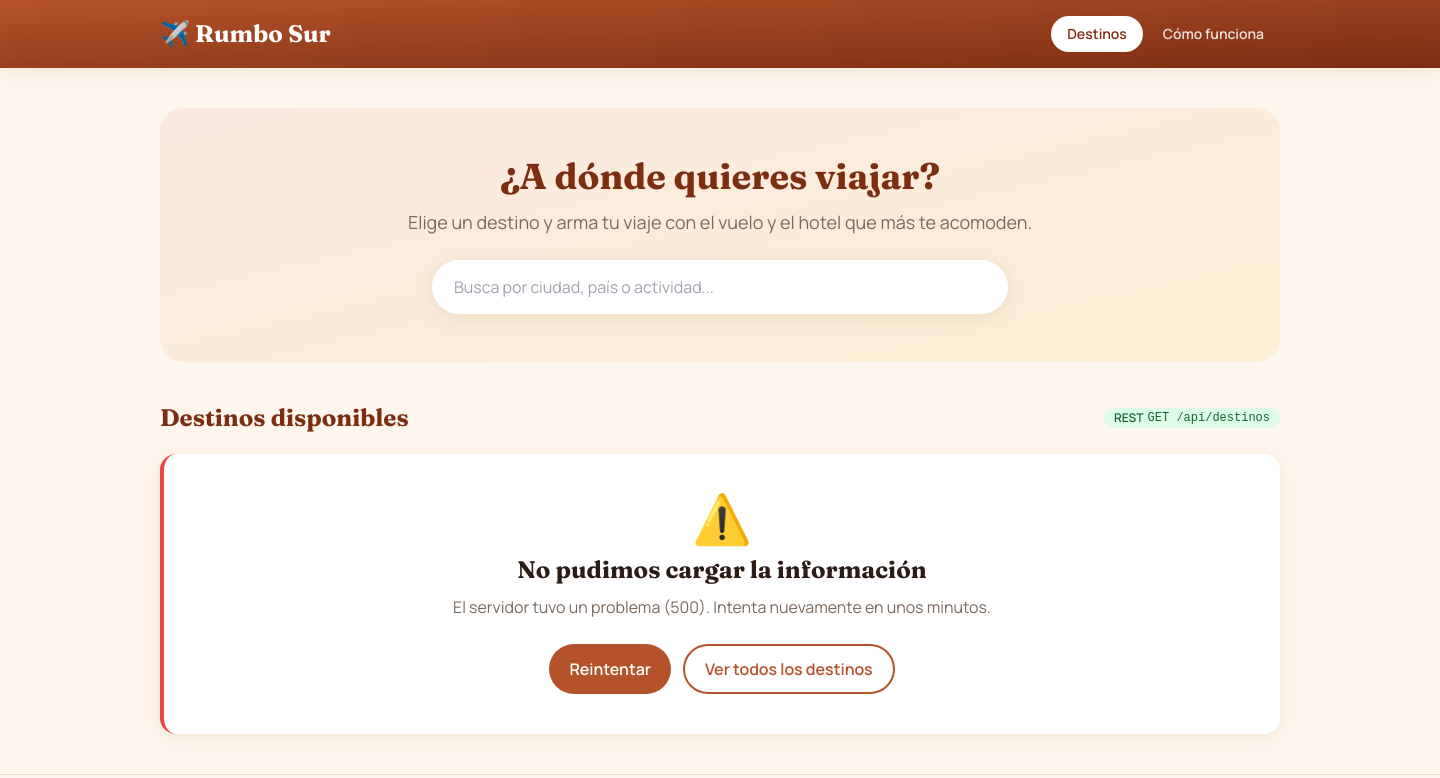
Test: Página Inicio (REST) › si el servidor falla muestra el error y permite reintentar
The width and height of the screenshot is (1440, 778).
Check: the message shows "El servidor tuvo un problema (500)", box [453,596,991,618]
Click the button "Reintentar". click: (610, 669)
box: [549,644,671,694]
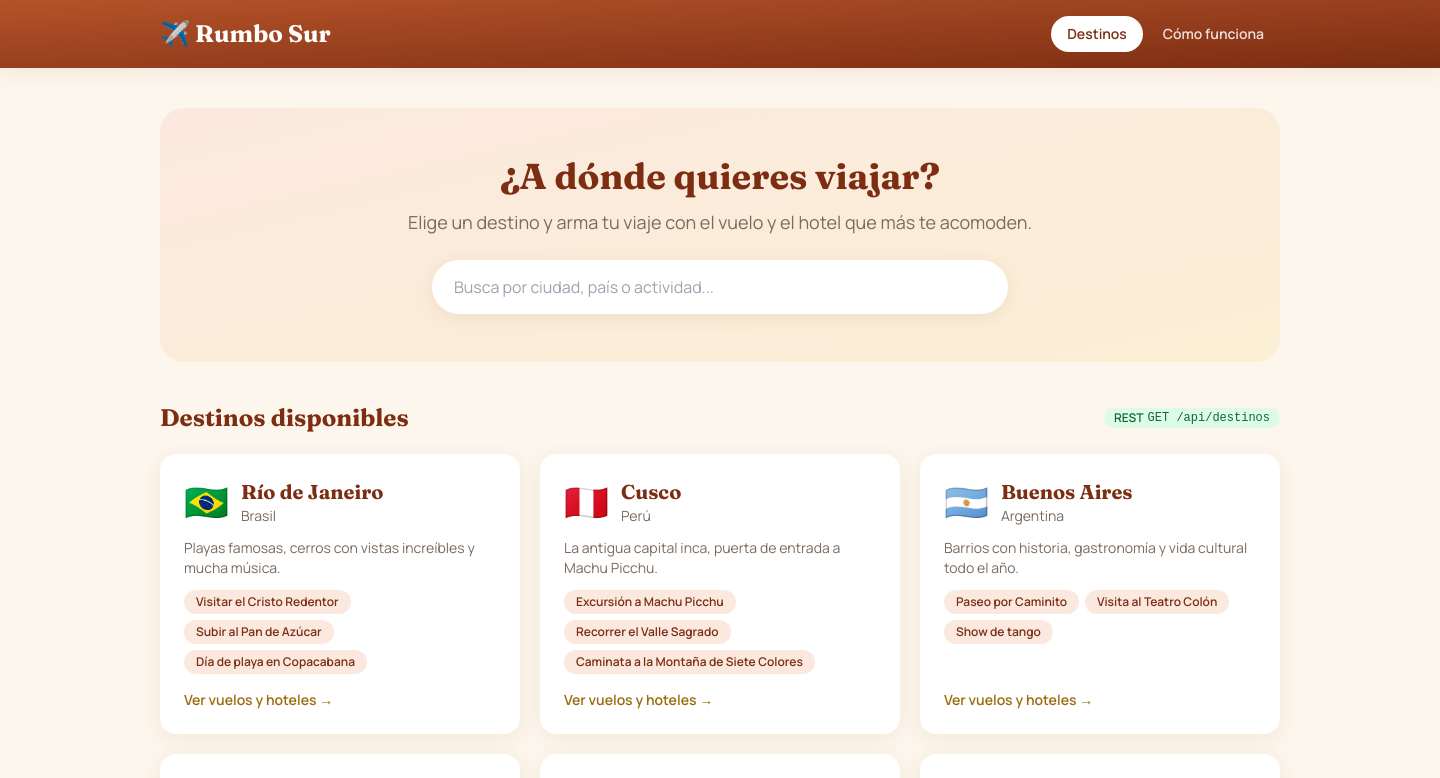
Check: the heading "Cusco" is shown, box [621,478,681,506]
